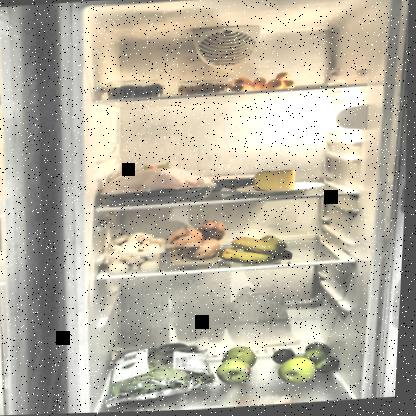apple: (221, 344, 268, 390), (283, 358, 321, 390)
banana: (221, 235, 300, 270)
blueberries: (109, 82, 164, 103)
carrot: (230, 73, 301, 96)
cheese: (254, 170, 299, 194)
ground_beef: (207, 173, 263, 192)
lime: (307, 344, 347, 378), (277, 349, 300, 366)
mushrooms: (110, 230, 166, 276)
onion: (167, 221, 231, 264)
shrimp: (178, 82, 234, 99)
spinach: (105, 338, 224, 410)
tomato: (97, 165, 223, 207)
